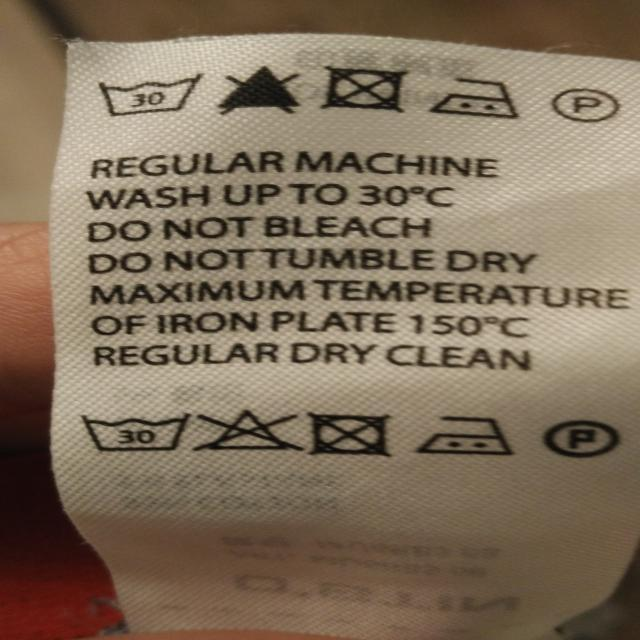30C: (77, 405, 192, 460), (99, 67, 207, 119)
DN_bleach: (198, 401, 298, 460), (217, 61, 302, 118)
DN_tumble_dry: (302, 409, 398, 463), (319, 63, 411, 119)
dry_clean_any_solvent_except_trichloroethylene: (540, 417, 623, 463), (551, 85, 624, 126)
iron_medium: (425, 71, 525, 121), (413, 415, 515, 461)
